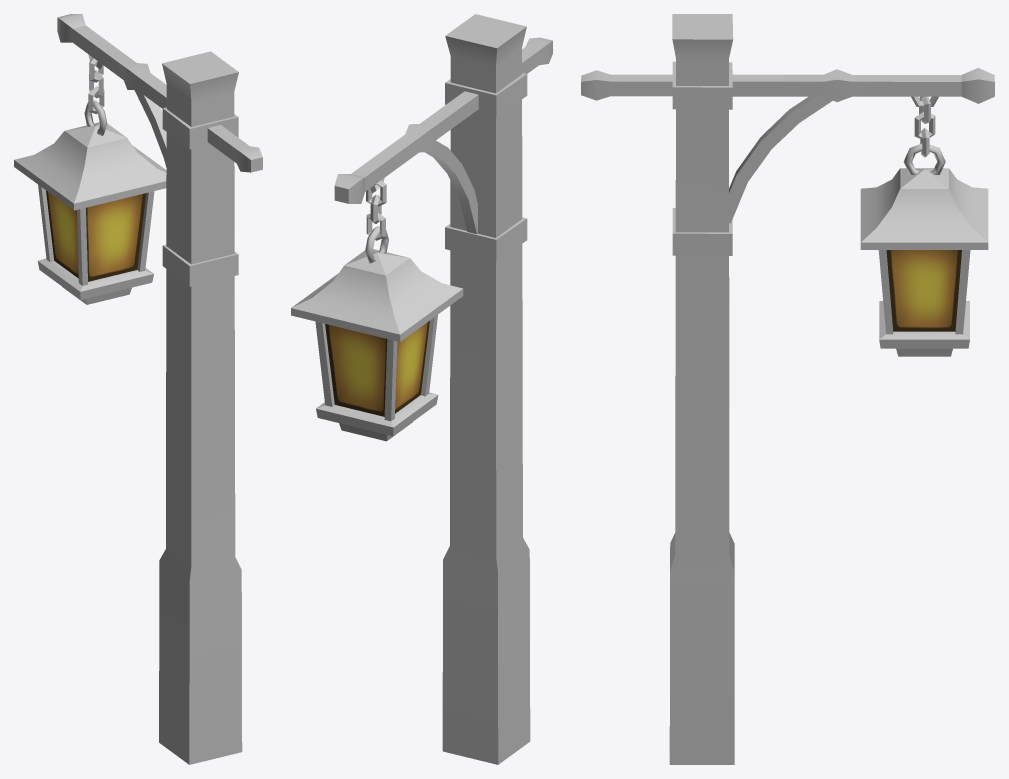
Rendered from SM_Lantern_02.fbx.
The picture shows the model from 3 angles, left to right: view 1: azimuth 30°, elevation 25°; view 2: azimuth 150°, elevation 25°; view 3: azimuth 270°, elevation 25°; orthographic projection. The views are drawn at different scales.
Visible parts, largest first — view 1: SM_Lantern_02_Mesh; view 2: SM_Lantern_02_Mesh; view 3: SM_Lantern_02_Mesh.
Part boxes in pixels (x1=…): SM_Lantern_02_Mesh: x1=14, y1=14, x2=262, y2=764; SM_Lantern_02_Mesh: x1=291, y1=14, x2=552, y2=764; SM_Lantern_02_Mesh: x1=581, y1=14, x2=994, y2=764.
Size of what is drawn, in the model's own units: 28.93 by 181 by 93.69.
